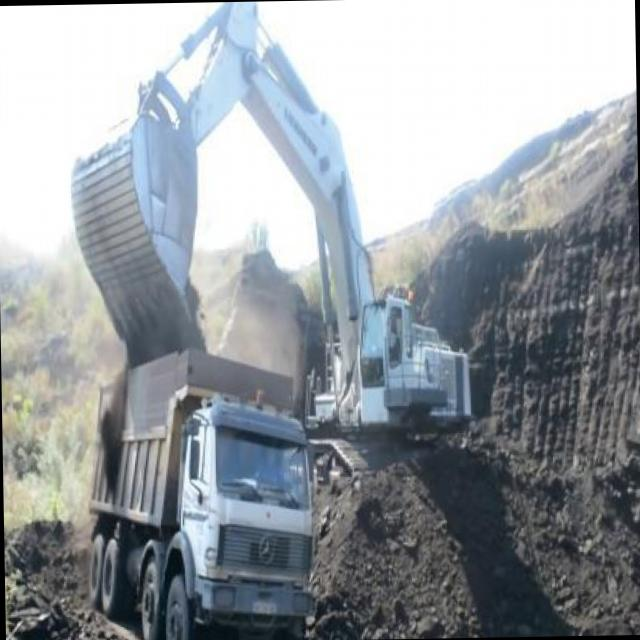Dump Truck: (81, 360, 317, 640)
Excavator: (72, 0, 471, 439)
